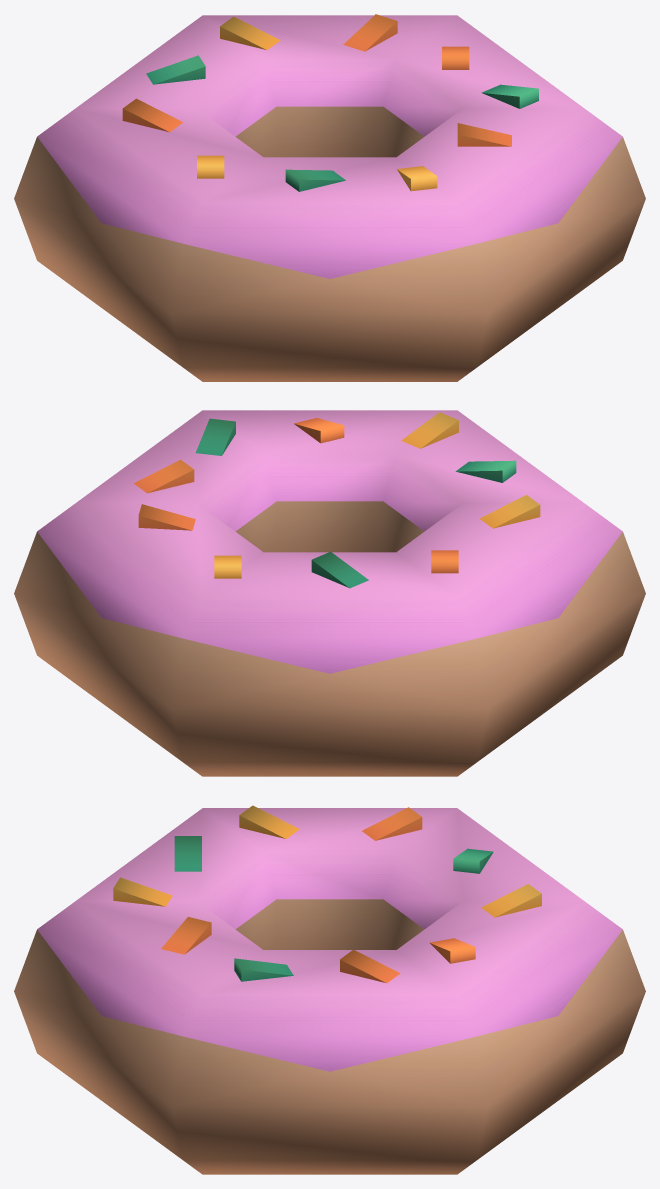
The model's file is donut-sprinkles.glb.
3 renders of one model, top to bottom at view 1: azimuth 30°, elevation 25°; view 2: azimuth 150°, elevation 25°; view 3: azimuth 270°, elevation 25°, orthographic.
Visible parts, largest first — view 1: donut-sprinkles; view 2: donut-sprinkles; view 3: donut-sprinkles.
Part boxes in pixels (x1,y1,x2,y2): donut-sprinkles: (14,14,645,381); donut-sprinkles: (14,410,645,776); donut-sprinkles: (14,805,645,1174).
Bounding box in the file's own units: 0.2451 × 0.095 × 0.283.
1 material, 1 textured.
